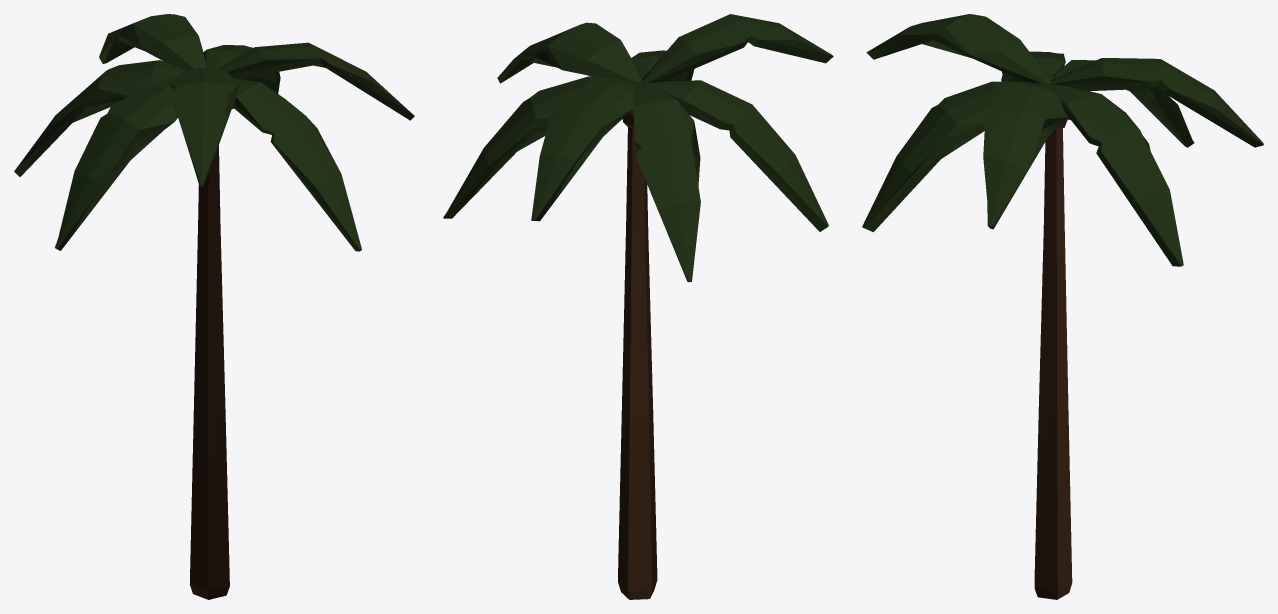
Rendered from palm_tree_2.FBX.
3 renders of one model, left to right at view 1: azimuth 30°, elevation 25°; view 2: azimuth 150°, elevation 25°; view 3: azimuth 270°, elevation 25°, orthographic.
Parts seen in each view (by area): view 1: palm_tree_2; view 2: palm_tree_2; view 3: palm_tree_2.
Boxes of the visible parts, box(x1,y1,x2,y2) form: palm_tree_2: box(14, 14, 414, 599); palm_tree_2: box(443, 14, 833, 599); palm_tree_2: box(862, 14, 1263, 599).
Bounding box in the file's own units: 22.59 × 34.81 × 23.13.
